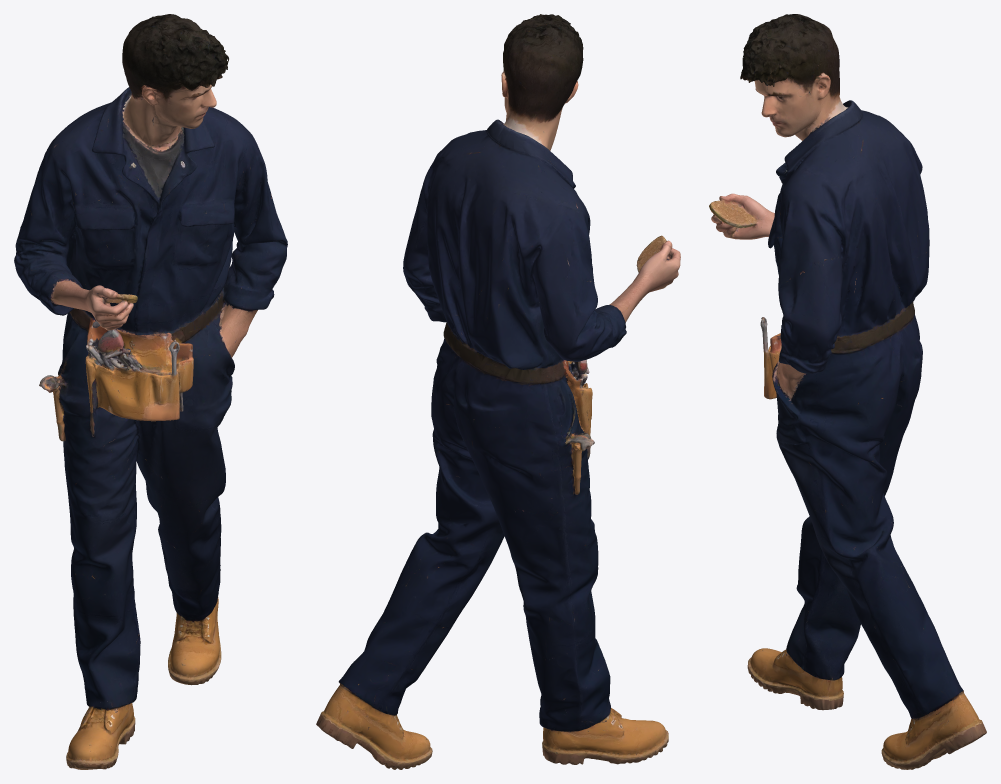
File: overalls-worker.glb
The picture shows the model from 3 angles, left to right: view 1: azimuth 30°, elevation 25°; view 2: azimuth 150°, elevation 25°; view 3: azimuth 270°, elevation 25°; orthographic projection. The views are drawn at different scales.
Visible parts, largest first — view 1: Object_5; view 2: Object_5; view 3: Object_5.
Boxes of the visible parts, x1,y1,x2,y2 form: Object_5: [14, 14, 287, 769]; Object_5: [316, 14, 680, 769]; Object_5: [709, 14, 986, 769].
Size of the model in its own units: 0.6796 by 1.9 by 0.6775.
Materials: 1 (1 with a texture image).
